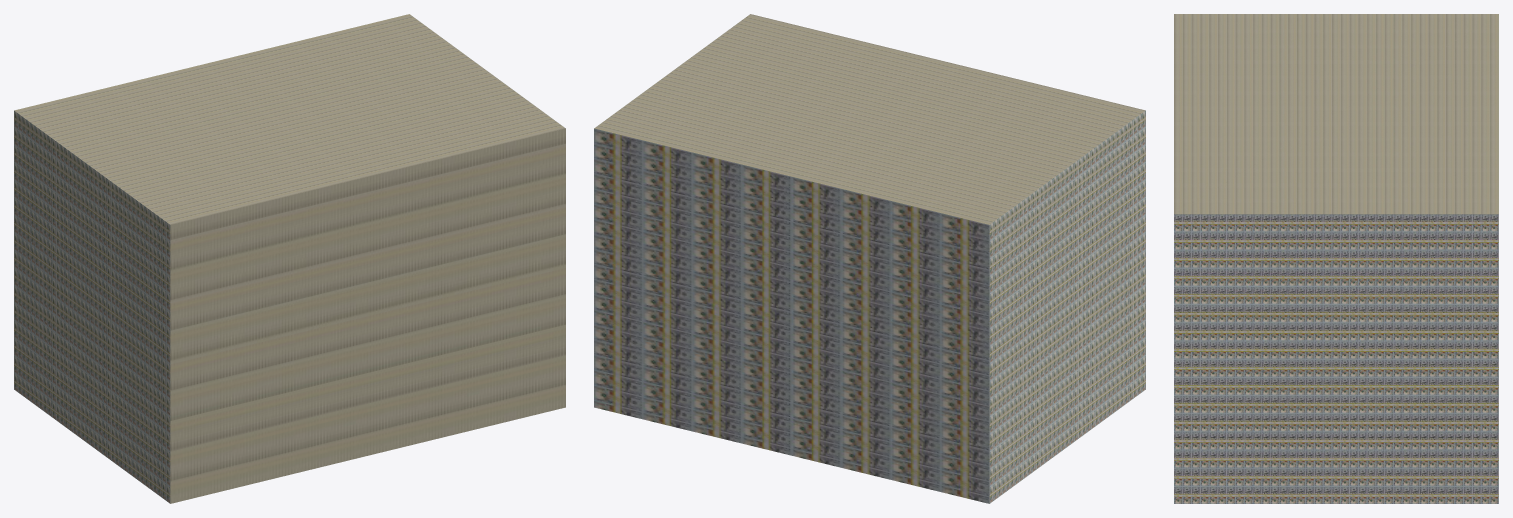
3 views of the same model, side by side, from view 1: azimuth 30°, elevation 25°; view 2: azimuth 150°, elevation 25°; view 3: azimuth 270°, elevation 25° (orthographic). The views are drawn at different scales.
Visible parts, largest first — view 1: Cube; view 2: Cube; view 3: Cube.
Part boxes in pixels (x1=…): Cube: x1=14, y1=14, x2=565, y2=503; Cube: x1=594, y1=14, x2=1145, y2=503; Cube: x1=1174, y1=14, x2=1498, y2=503.
Bounding box in the file's own units: 5489 × 3700 × 3760.
1 material, 1 textured.
